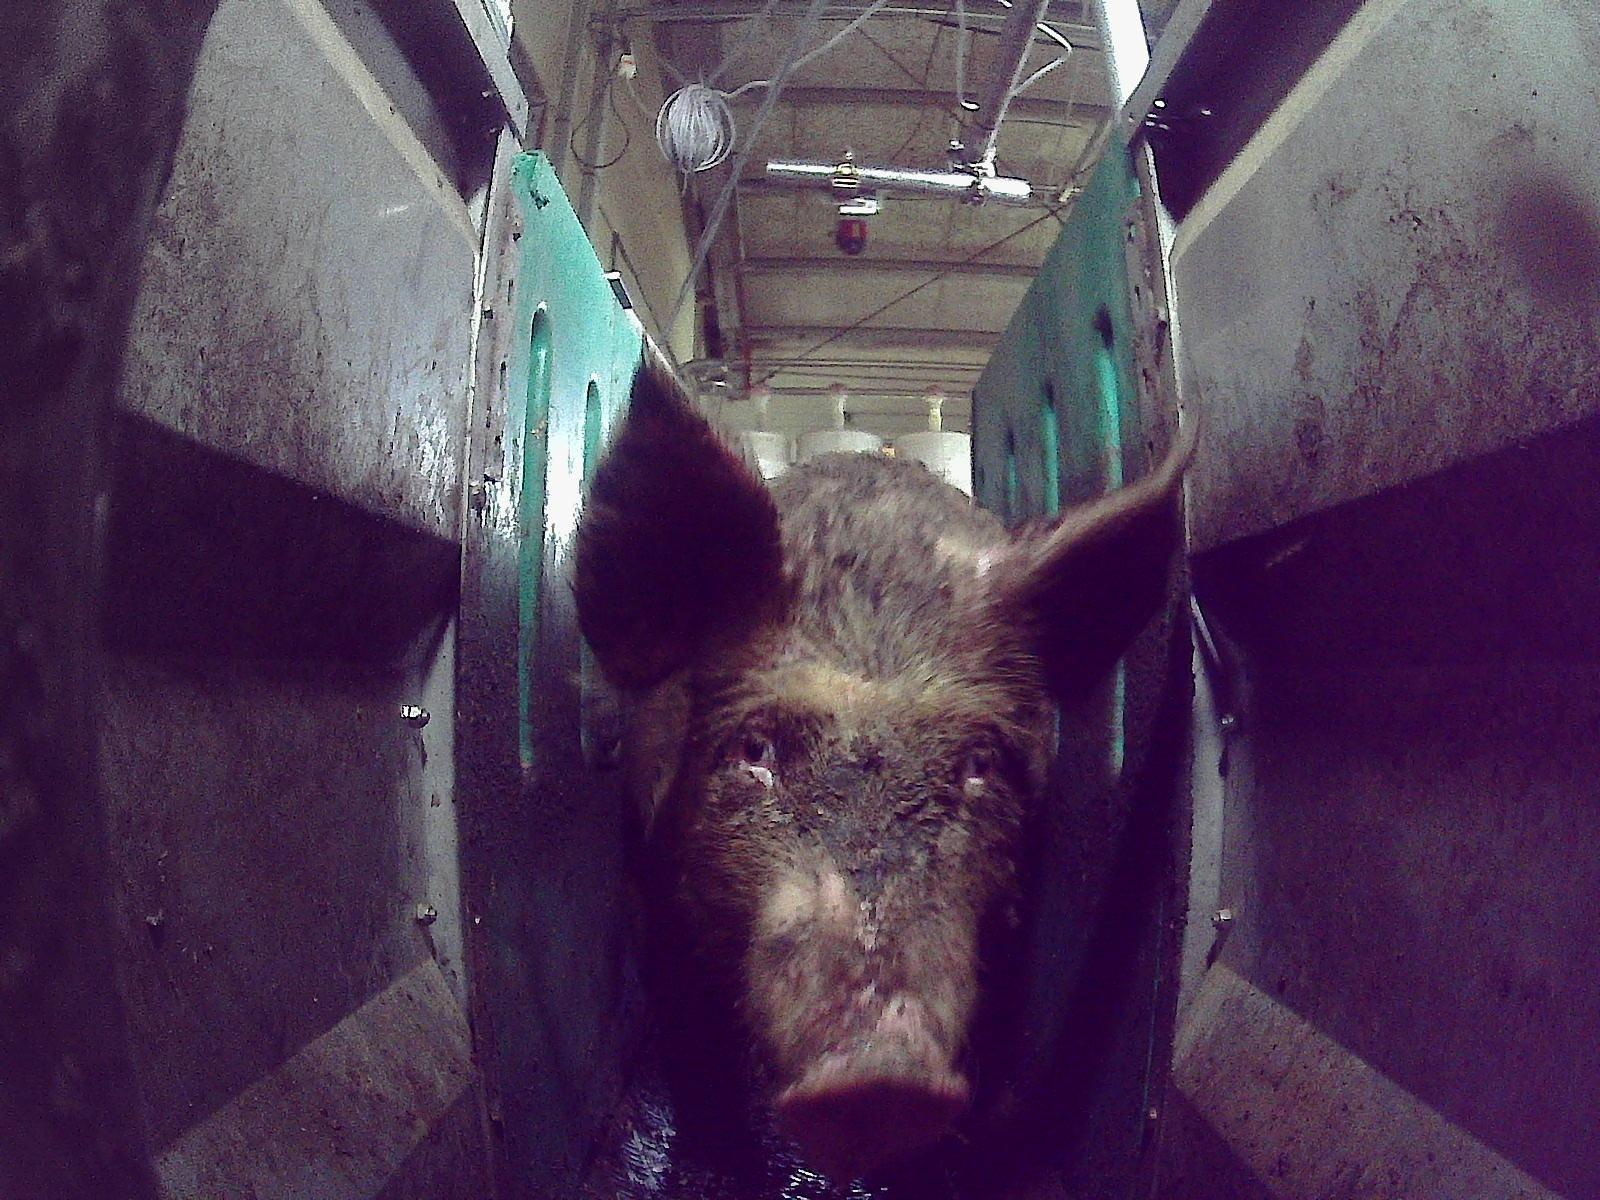Face: (668, 596, 1041, 1171)
